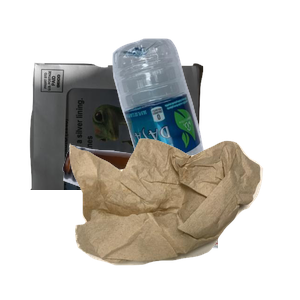glass: (60, 142, 300, 300)
paper: (27, 60, 223, 240)
plastic: (110, 36, 300, 216)
trash: (67, 136, 300, 300)
